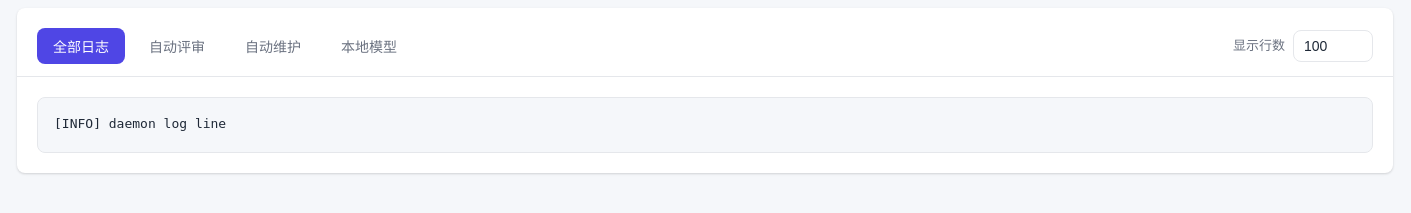
Test case: Logs › 切换到本地模型选项卡显示过滤后的模型日志
What coordinates should you click on to do the following:
click the button "本地模型"
I would click on:
 (369, 46)
Its box is x1=325 y1=28 x2=413 y2=64.
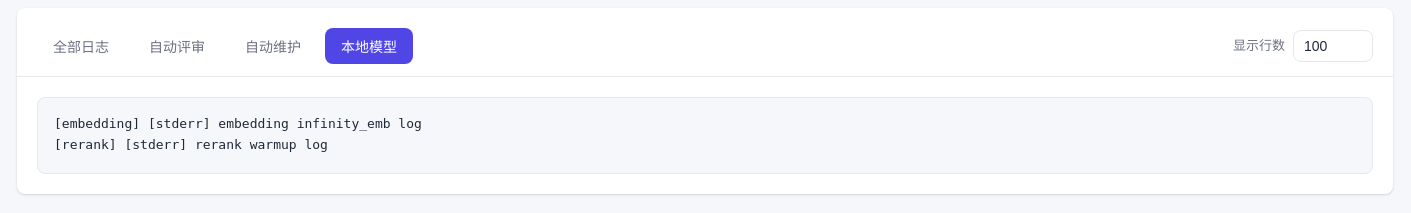
expect the text "rerank warmup" is shown: met, box x1=54 y1=116 x2=422 y2=152
